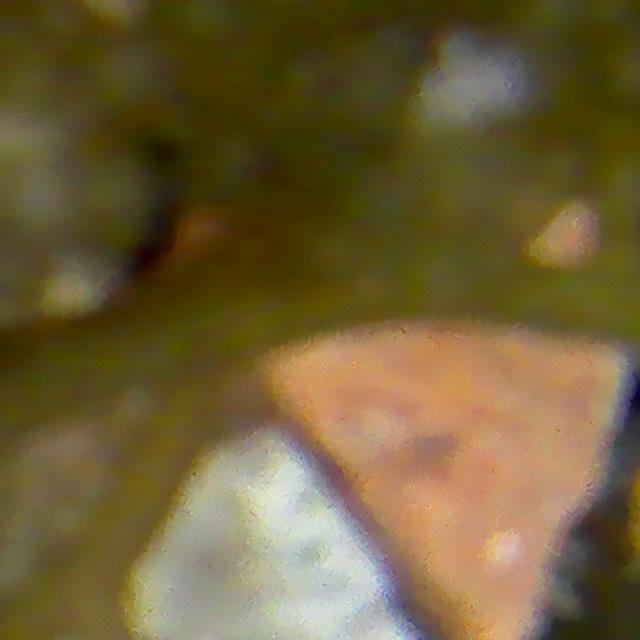SeaGrape: (86, 35, 178, 123), (509, 0, 598, 49), (174, 0, 246, 53), (29, 0, 90, 53)
